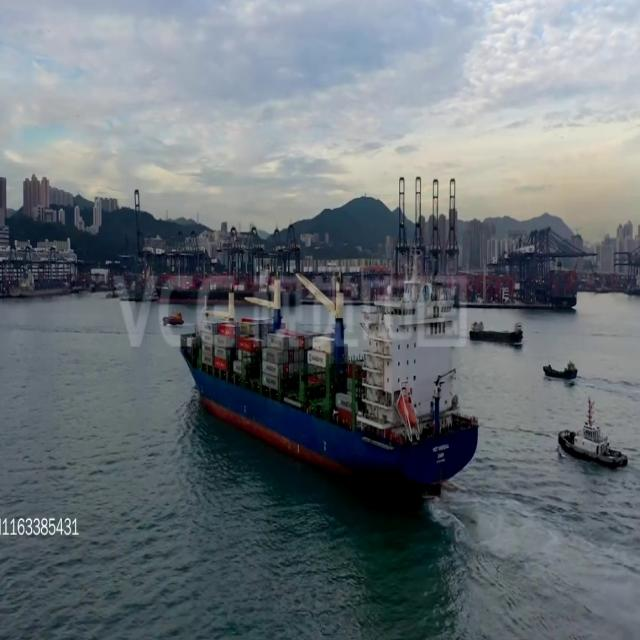cargoship: (180, 287, 477, 498)
fishing boat: (558, 400, 628, 474), (468, 311, 526, 346), (542, 357, 577, 383), (160, 308, 185, 326)
